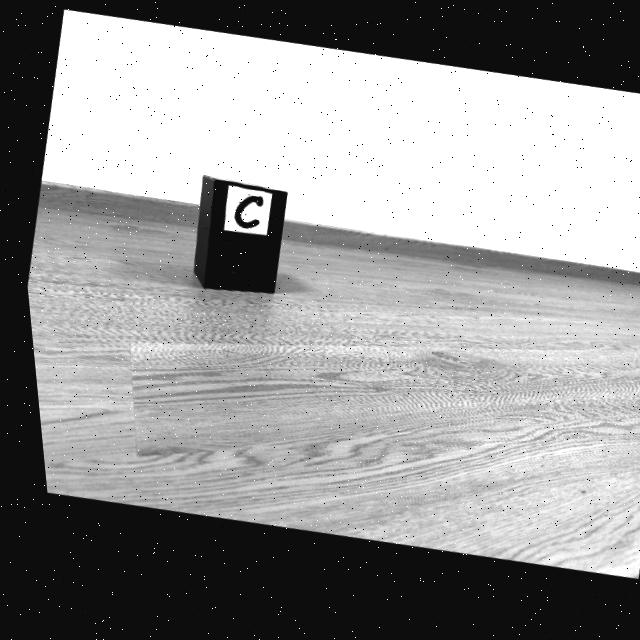C: (229, 199, 259, 233)
